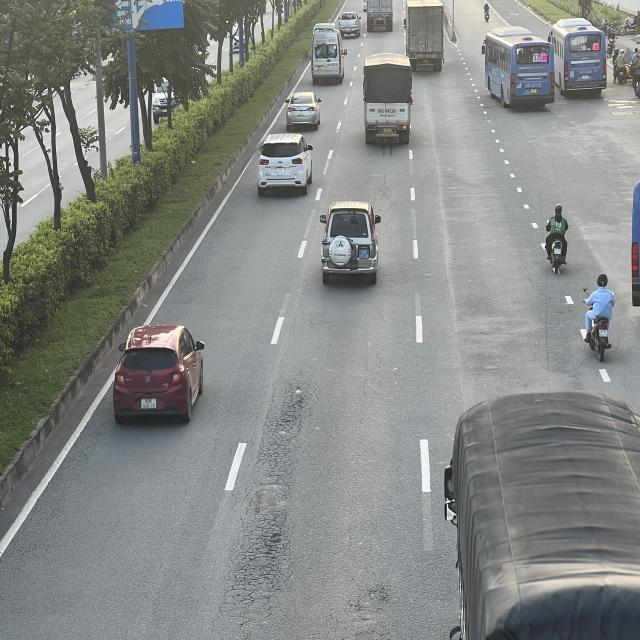car: (112, 323, 206, 425), (319, 200, 381, 284), (258, 135, 315, 198), (285, 92, 321, 132), (339, 12, 362, 39)
coach: (481, 30, 555, 110), (550, 16, 608, 96)
truck: (447, 390, 640, 640), (361, 52, 412, 144), (404, 0, 445, 71), (364, 0, 394, 33)
van: (311, 27, 347, 84)
